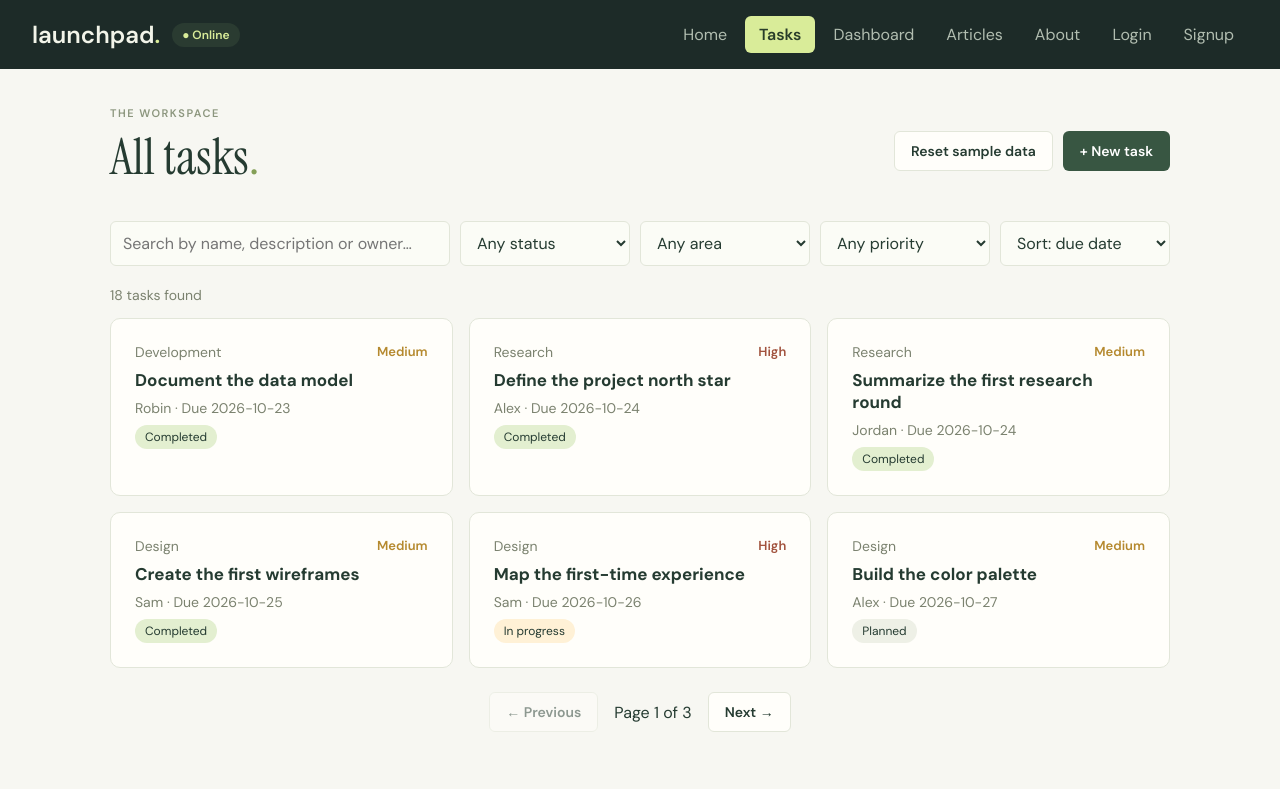
Test case: opens a task details page from a card
This screenshot has width=1280, height=789.
Click the heading "Map the first-time experience": (640, 574) x1=494 y1=563 x2=786 y2=585
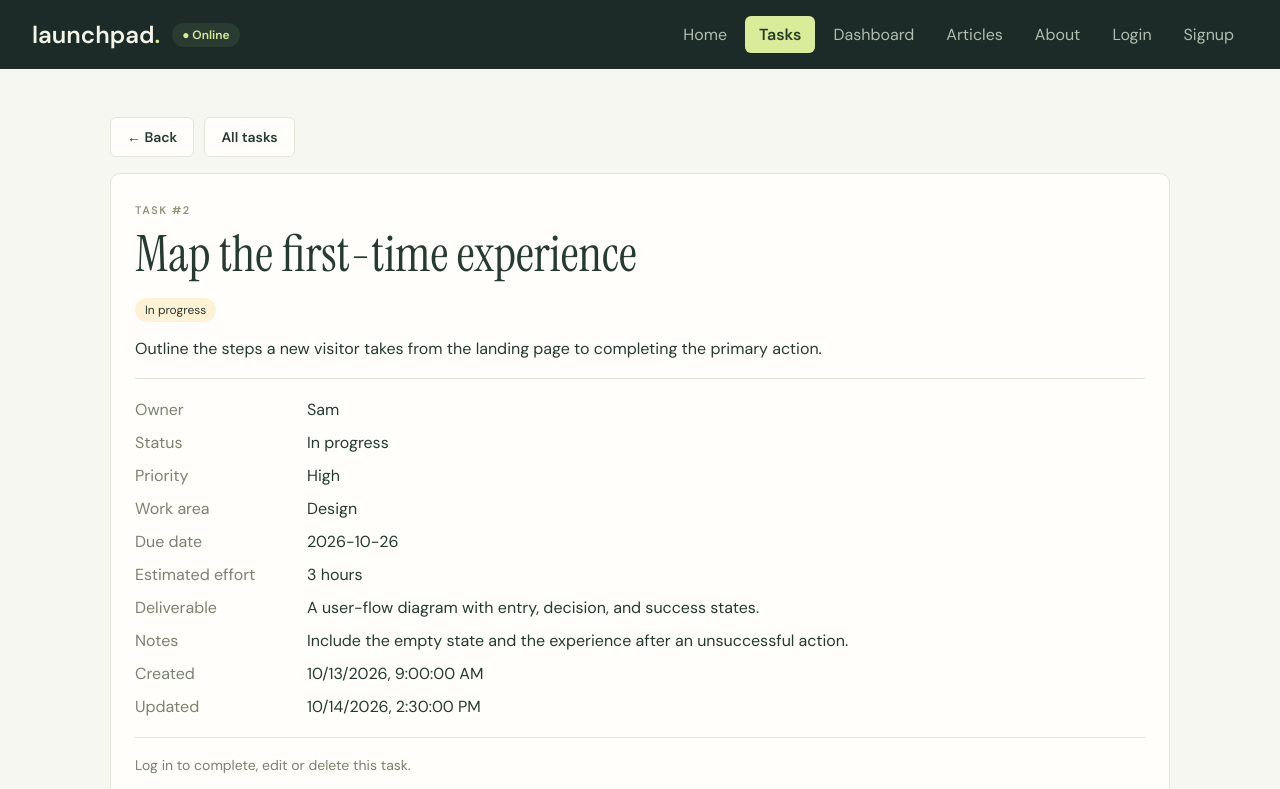
Expected: the heading "Map the first-time experience" is shown, x1=135 y1=221 x2=637 y2=287
Expected: the text "Estimated effort" is shown, x1=135 y1=564 x2=255 y2=585
